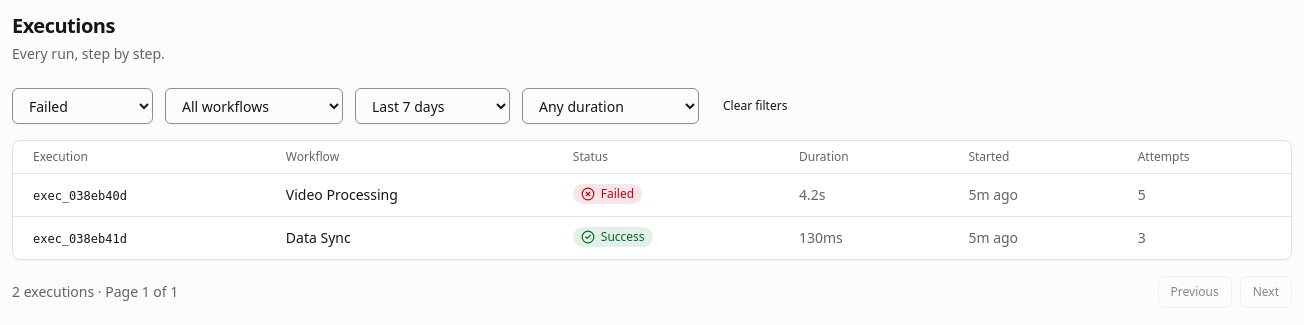
Test: ExecutionsPage › clears all filters at once
Step 1. Click the button "Clear filters" → (755, 106), box [711,90,799,122]
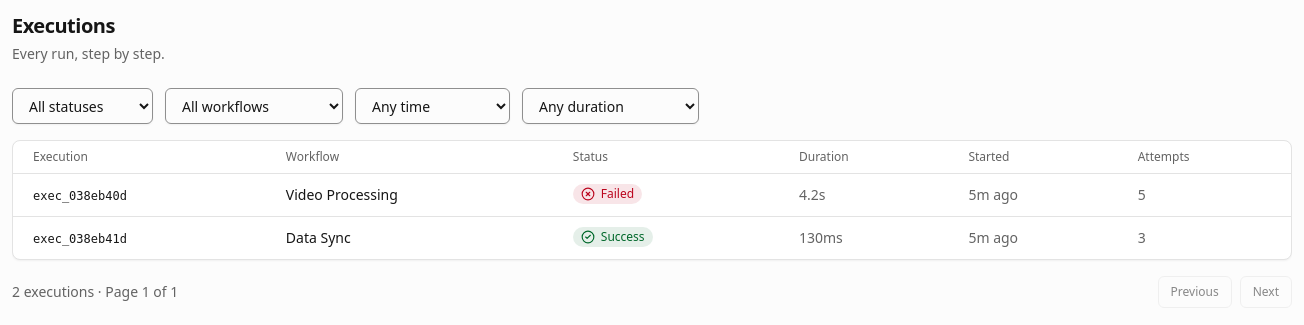
Expected: the dropdown named "Status" shows "All statuses", [12,88,153,124]
Expected: the dropdown named "Date" shows "Any time", [355,88,510,124]
